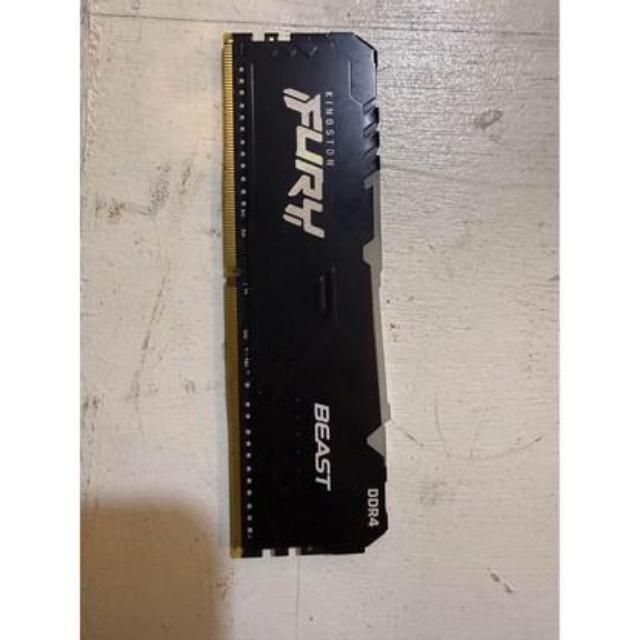RAM: (213, 28, 402, 566)
